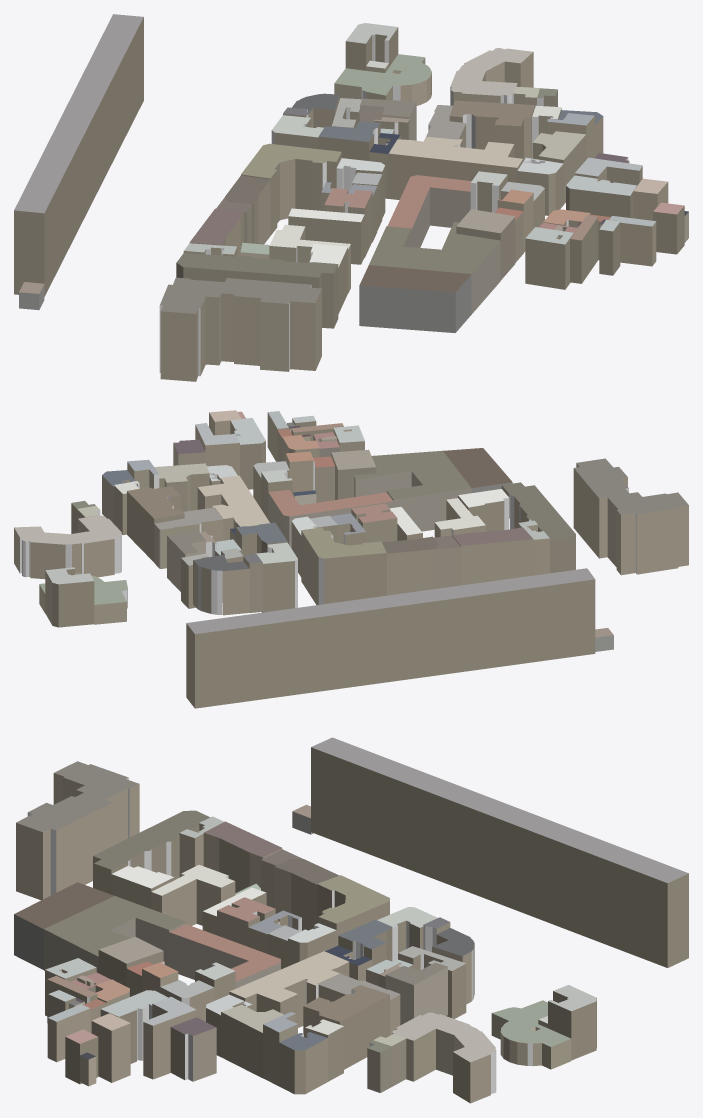
3 views of the same model, one above another, from view 1: azimuth 30°, elevation 25°; view 2: azimuth 150°, elevation 25°; view 3: azimuth 270°, elevation 25° (orthographic). The views are drawn at different scales.
Visible parts, largest first — view 1: tuile; view 2: tuile; view 3: tuile.
Boxes of the visible parts, left/top/right/bottom form: tuile: left=14, top=14, right=688, bottom=381; tuile: left=14, top=410, right=688, bottom=708; tuile: left=14, top=737, right=688, bottom=1103.
Size of the model in its own units: 262 by 36.38 by 254.
